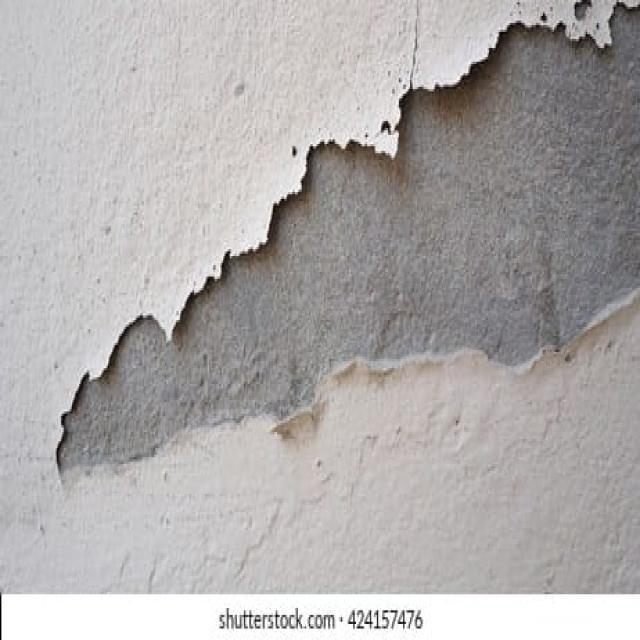Paint peeling: (15, 8, 639, 484)
